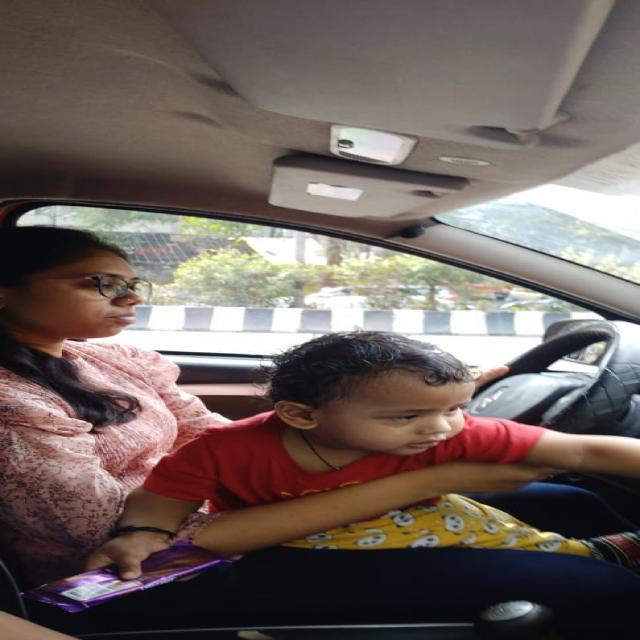child: (248, 329, 485, 462)
person: (0, 220, 189, 360)
